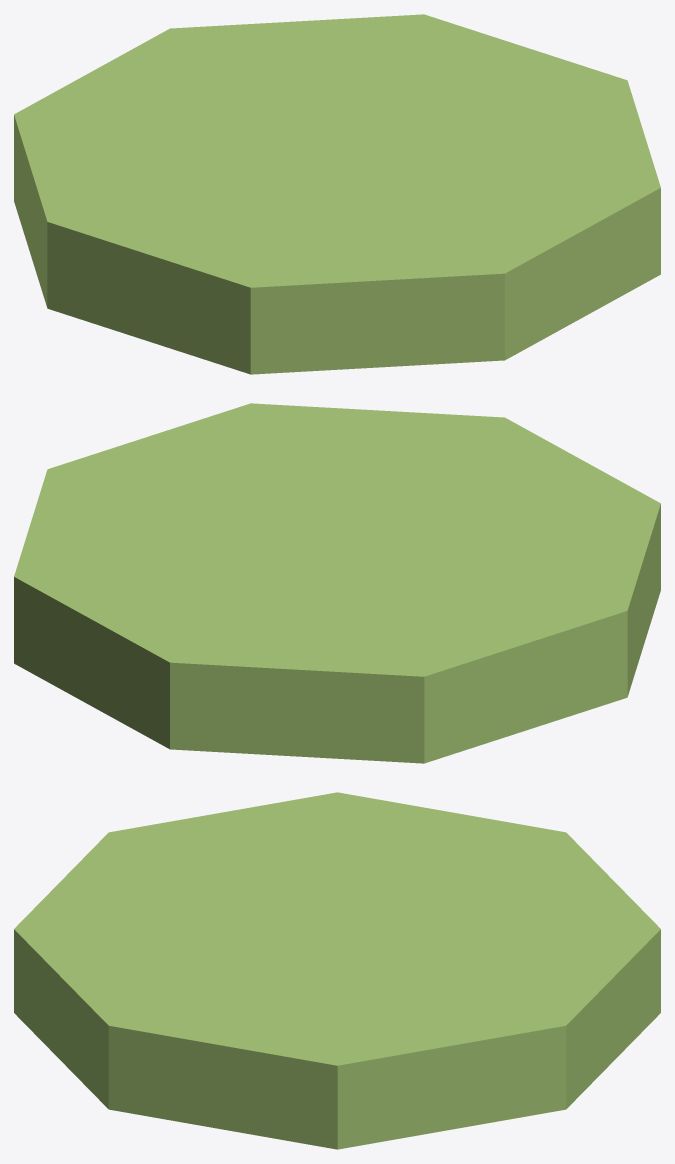
File: Platform_1.fbx
The picture shows the model from 3 angles, top to bottom: view 1: azimuth 30°, elevation 25°; view 2: azimuth 150°, elevation 25°; view 3: azimuth 270°, elevation 25°; orthographic projection. The views are drawn at different scales.
Visible parts, largest first — view 1: Platform_1; view 2: Platform_1; view 3: Platform_1.
Boxes of the visible parts, x1,y1,x2,y2 form: Platform_1: (14, 14, 660, 374); Platform_1: (14, 403, 660, 763); Platform_1: (14, 792, 660, 1149).
Size of the model in its own units: 38.22 by 5.47 by 38.22.
1 material, 1 textured.
